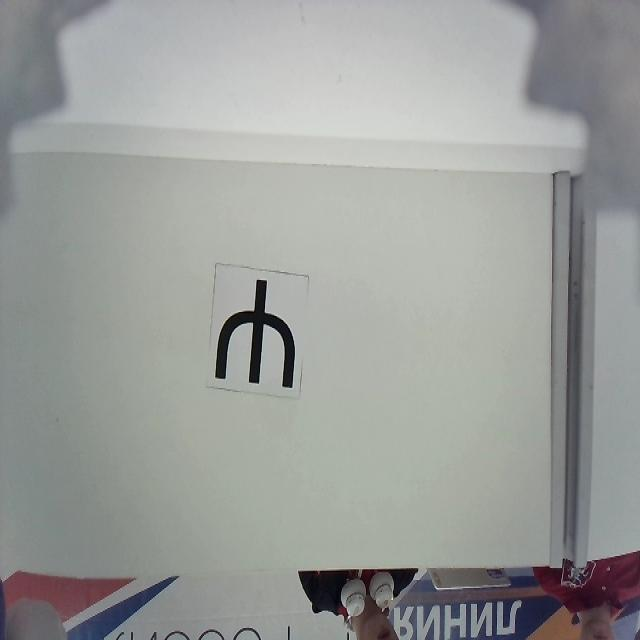nedoF: (216, 276, 296, 388)
